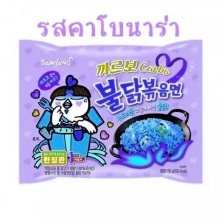snack: (7, 32, 212, 190)
